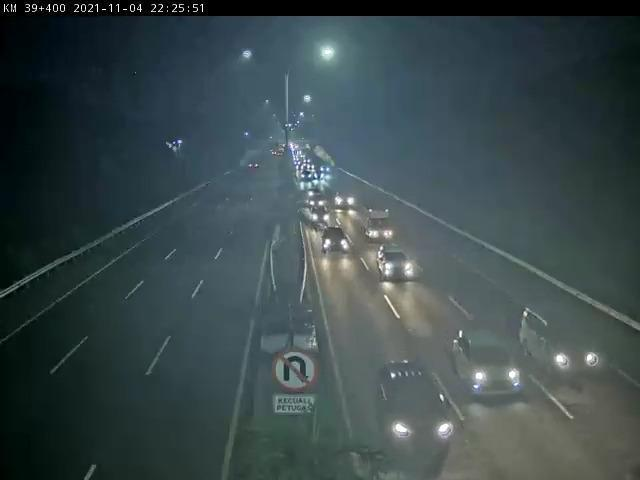car: (373, 362, 454, 453), (523, 304, 607, 376), (453, 326, 526, 405), (377, 243, 418, 284), (321, 226, 355, 256), (335, 190, 356, 210), (312, 204, 331, 226)
truck: (363, 207, 395, 244)
